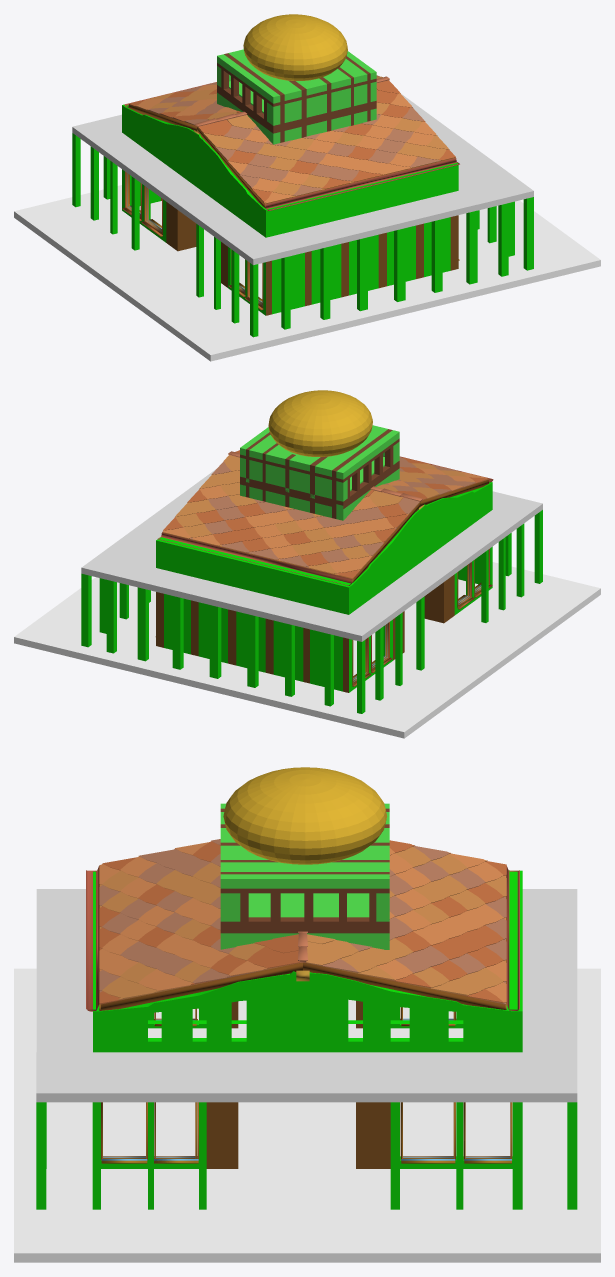
3 renders of one model, top to bottom at view 1: azimuth 30°, elevation 25°; view 2: azimuth 150°, elevation 25°; view 3: azimuth 270°, elevation 25°, orthographic. The views are drawn at different scales.
Visible parts, largest first — view 1: Cube, Cube.003, Roof, Cube.004, Sphere.001; view 2: Cube, Cube.003, Roof, Cube.004, Sphere.001; view 3: Cube.003, Cube, Roof, Cube.004, Sphere.001, Window.010, Window.012.
Boxes of the visible parts, x1,y1,x2,y2 form: Cube: (72,94,533,337); Cube.003: (14,185,600,361); Roof: (124,75,459,211); Cube.004: (217,49,376,144); Sphere.001: (243,14,347,80); Cube: (81,469,542,713); Cube.003: (14,562,600,738); Roof: (158,450,493,585); Cube.004: (240,425,399,520); Sphere.001: (268,390,372,456); Cube.003: (14,968,600,1262); Cube: (36,870,577,1209); Roof: (86,839,519,1011); Cube.004: (220,803,389,949); Sphere.001: (223,767,387,864); Window.010: (400,1102,455,1163); Window.012: (463,1102,512,1163).
Size of the model in its own units: 58.71 by 31.95 by 51.22.
